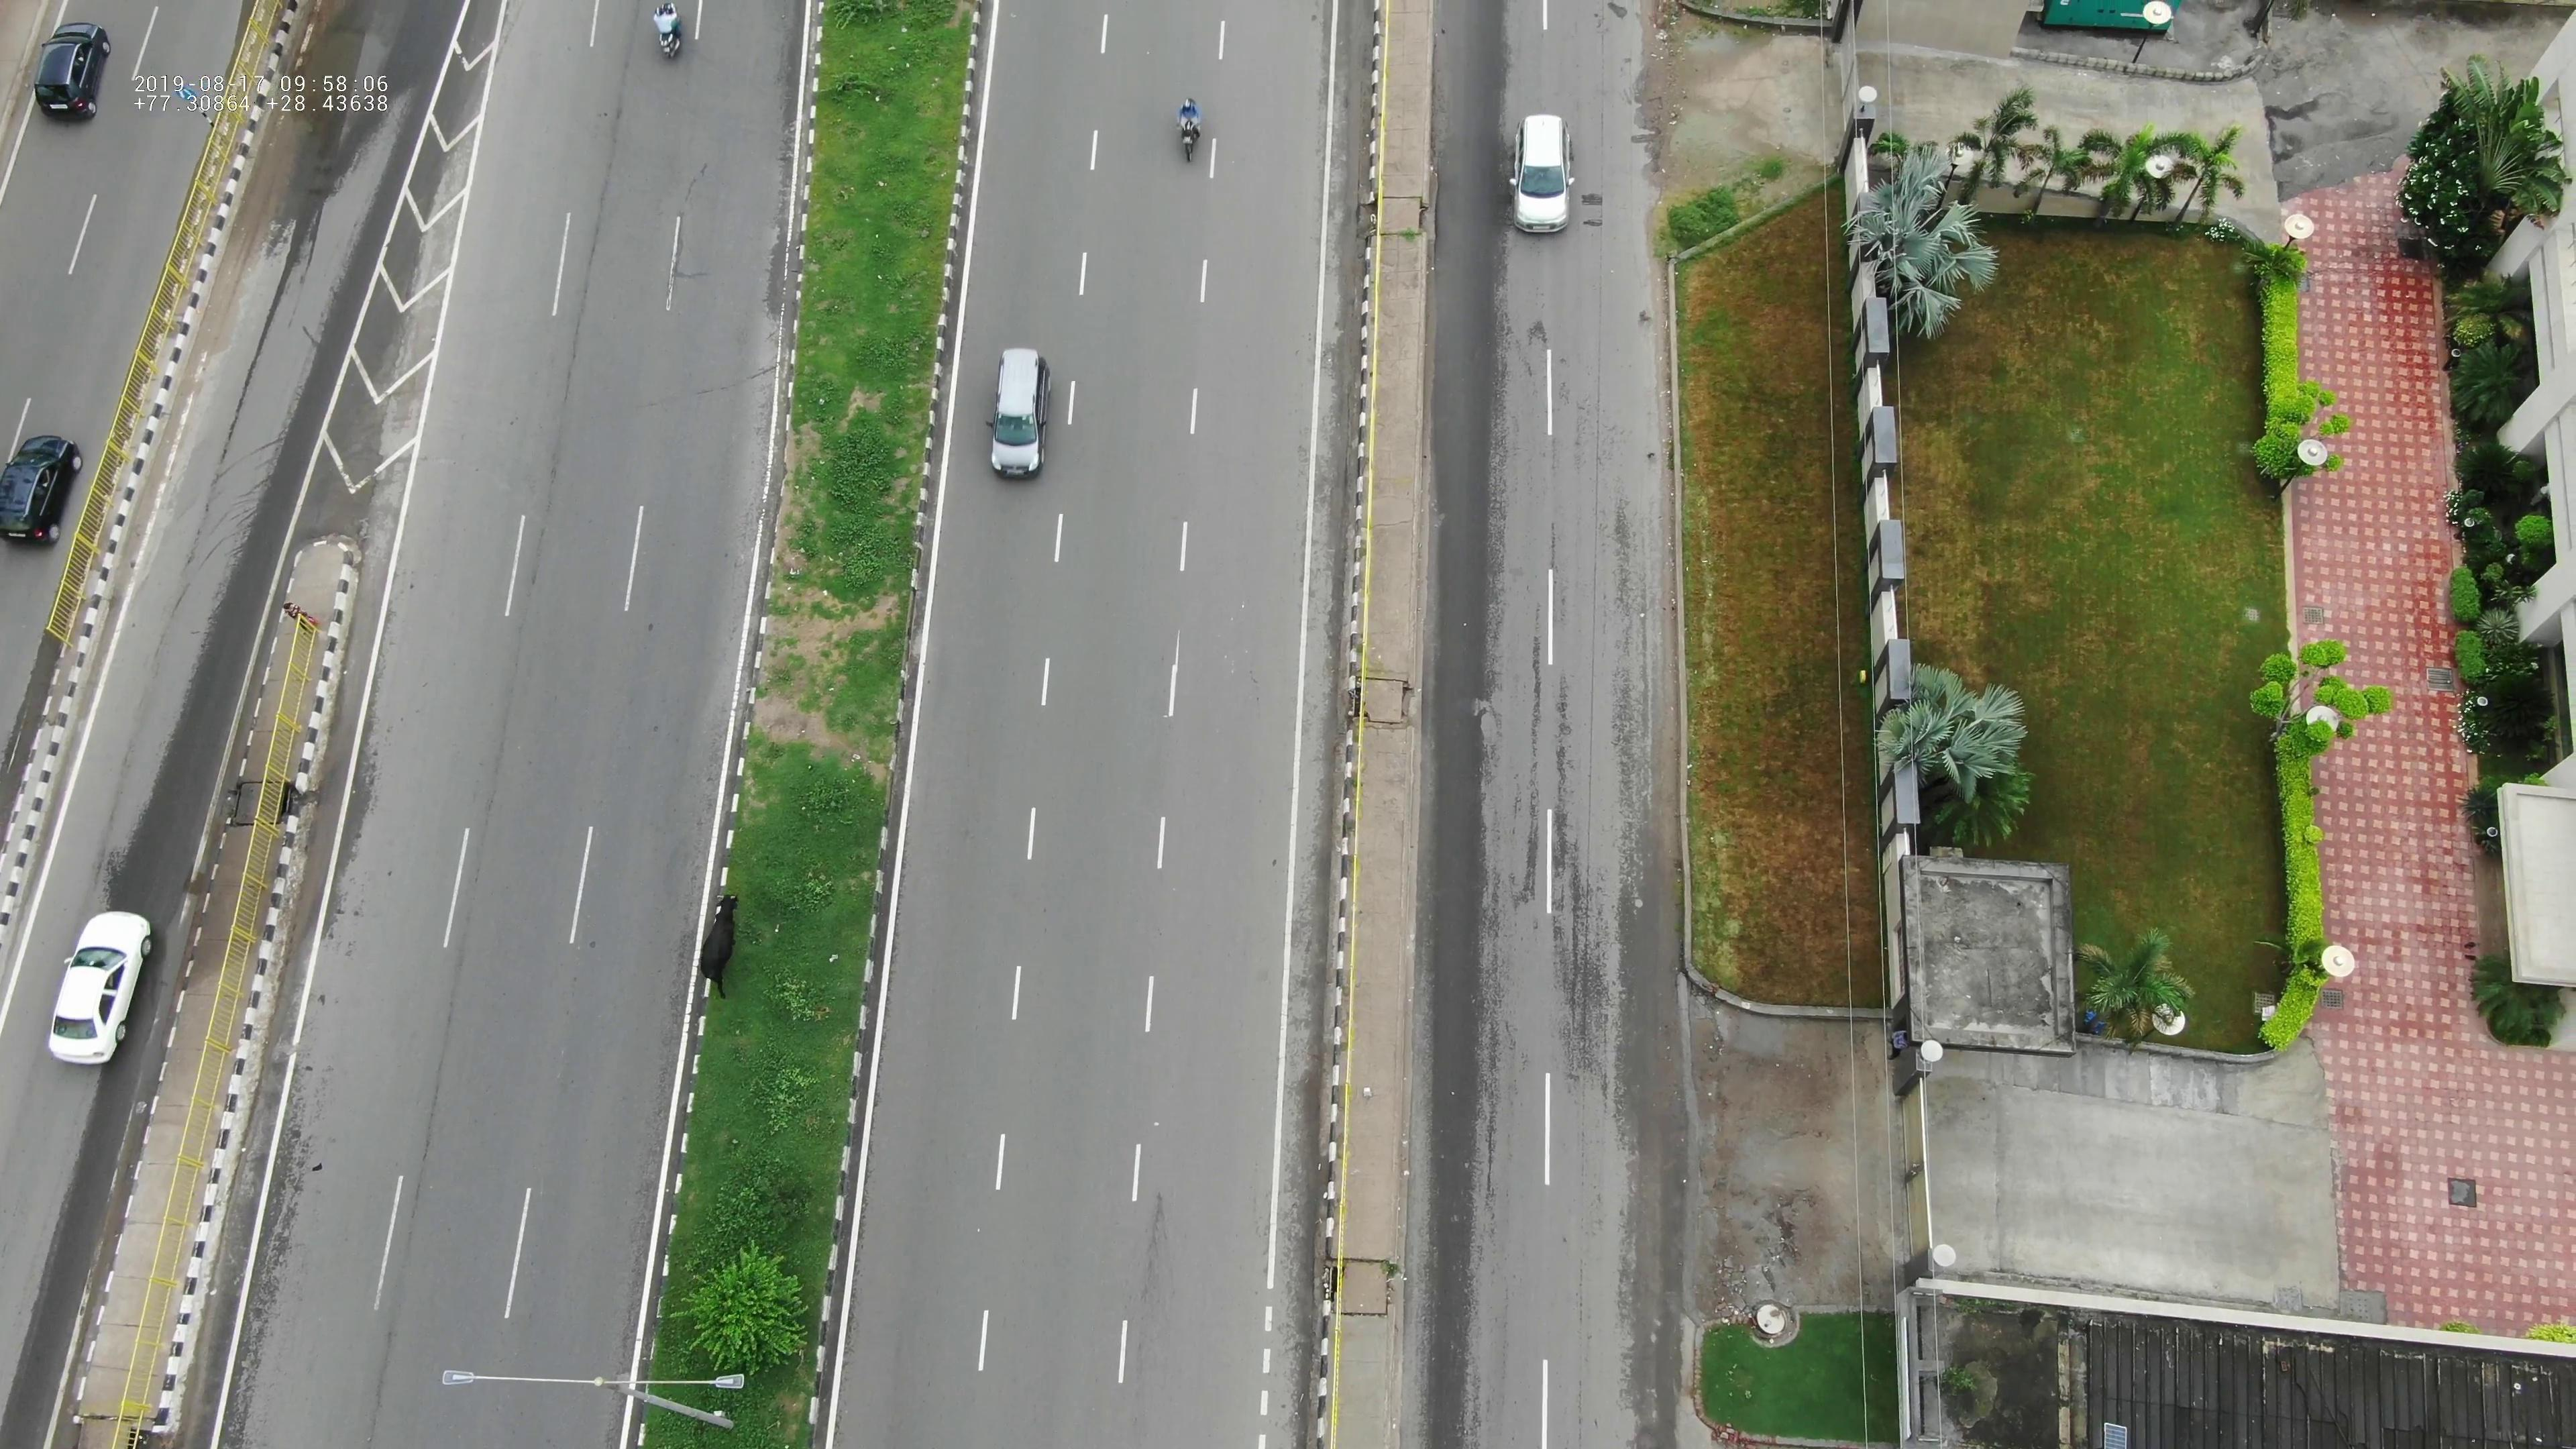Ravelling: (1511, 623, 1610, 1077)
